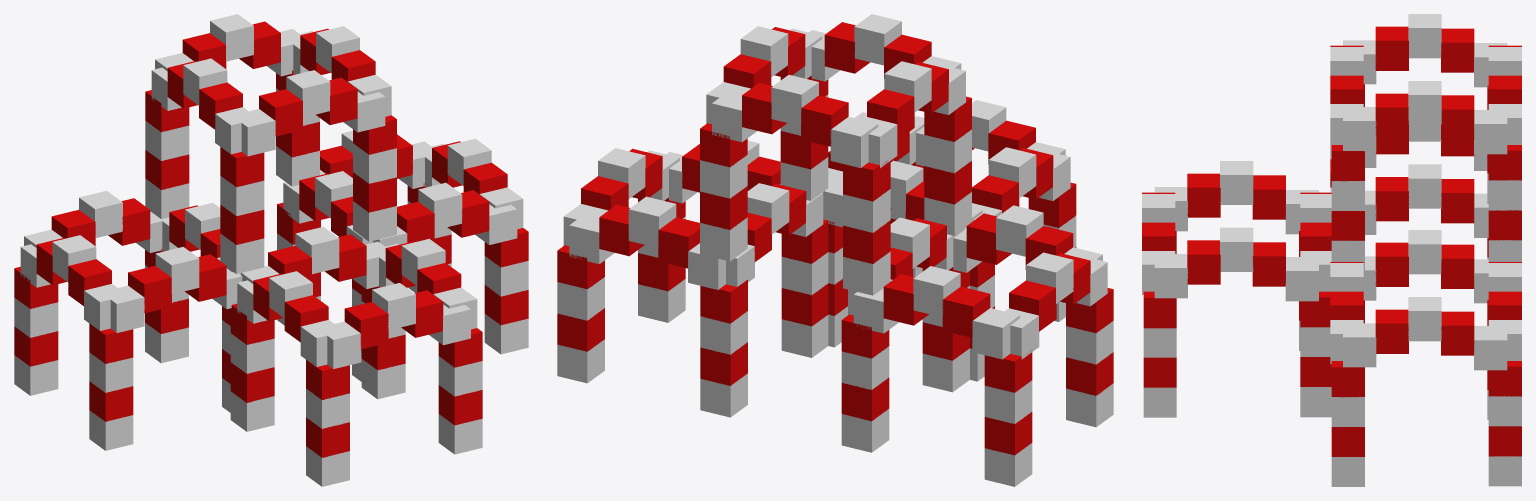
File: cubo.fbx
3 views of the same model, side by side, from view 1: azimuth 30°, elevation 25°; view 2: azimuth 150°, elevation 25°; view 3: azimuth 270°, elevation 25° (orthographic). The views are drawn at different scales.
Parts seen in each view (by area): view 1: pCube257 (×4), pCube256 (×4), pCube687 (×4), pCube674 (×4), pCube258 (×4), pCube686 (×4), pCube270 (×3), pCube255 (×3), pCube271 (×4), pCube684 (×4), pCube680 (×3), pCube269 (×4) (+20 smaller); view 2: pCube270 (×4), pCube687 (×4), pCube269 (×4), pCube688 (×4), pCube680 (×4), pCube272 (×4), pCube268 (×3), pCube684 (×3), pCube257 (×3), pCube264 (×3), pCube681 (×3), pCube266 (×3) (+20 smaller); view 3: pCube675 (×4), pCube674 (×4), pCube673 (×4), pCube686 (×4), pCube688 (×4), pCube672 (×4), pCube687 (×4), pCube676 (×4), pCube667 (×3), pCube665 (×3), pCube666 (×3), pCube267 (×3) (+12 smaller).
Part boxes in pixels (x1=…): pCube257 (×4): x1=155, y1=70, x2=462, y2=330; pCube256 (×4): x1=128, y1=89, x2=434, y2=349; pCube687 (×4): x1=52, y1=58, x2=352, y2=318; pCube674 (×4): x1=185, y1=26, x2=491, y2=285; pCube258 (×4): x1=185, y1=77, x2=489, y2=337; pCube686 (×4): x1=68, y1=82, x2=352, y2=342; pCube270 (×3): x1=79, y1=14, x2=339, y2=274; pCube255 (×3): x1=101, y1=109, x2=361, y2=368; pCube271 (×4): x1=108, y1=21, x2=412, y2=281; pCube684 (×4): x1=14, y1=90, x2=320, y2=344; pCube680 (×3): x1=89, y1=147, x2=349, y2=399; pCube269 (×4): x1=51, y1=33, x2=352, y2=281; pCube270 (×4): x1=628, y1=75, x2=960, y2=317; pCube687 (×4): x1=747, y1=61, x2=1073, y2=303; pCube269 (×4): x1=658, y1=95, x2=990, y2=337; pCube688 (×4): x1=747, y1=89, x2=1056, y2=331; pCube680 (×4): x1=781, y1=96, x2=1113, y2=333; pCube272 (×4): x1=569, y1=90, x2=898, y2=333; pCube268 (×3): x1=688, y1=116, x2=1019, y2=359; pCube684 (×3): x1=700, y1=161, x2=1032, y2=392; pCube257 (×3): x1=854, y1=14, x2=1043, y2=256; pCube264 (×3): x1=557, y1=217, x2=889, y2=452; pCube681 (×3): x1=700, y1=251, x2=1032, y2=486; pCube266 (×3): x1=557, y1=155, x2=889, y2=389; pCube675 (×4): x1=1252, y1=95, x2=1474, y2=355; pCube674 (×4): x1=1220, y1=81, x2=1441, y2=341; pCube673 (×4): x1=1187, y1=93, x2=1408, y2=353; pCube686 (×4): x1=1187, y1=26, x2=1408, y2=286; pCube688 (×4): x1=1252, y1=28, x2=1474, y2=288; pCube672 (×4): x1=1154, y1=107, x2=1376, y2=367; pCube687 (×4): x1=1220, y1=14, x2=1441, y2=274; pCube676 (×4): x1=1285, y1=110, x2=1507, y2=370; pCube667 (×3): x1=1143, y1=145, x2=1364, y2=397; pCube665 (×3): x1=1143, y1=211, x2=1364, y2=456; pCube666 (×3): x1=1143, y1=181, x2=1364, y2=426; pCube267 (×3): x1=1300, y1=145, x2=1521, y2=396.
Size of the model in its own units: 30.36 by 21.59 by 22.83.
